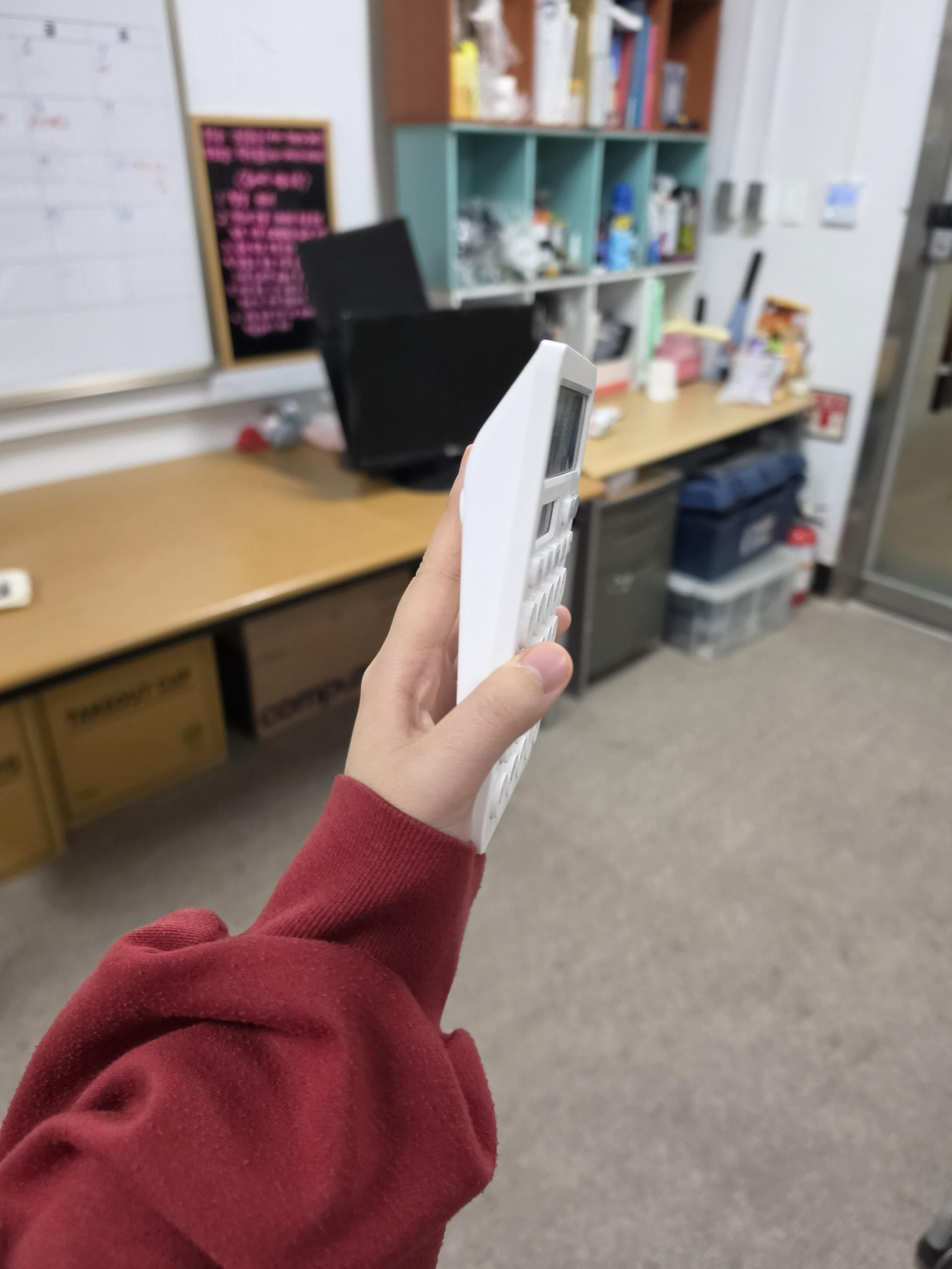calculator: (457, 339, 598, 855)
